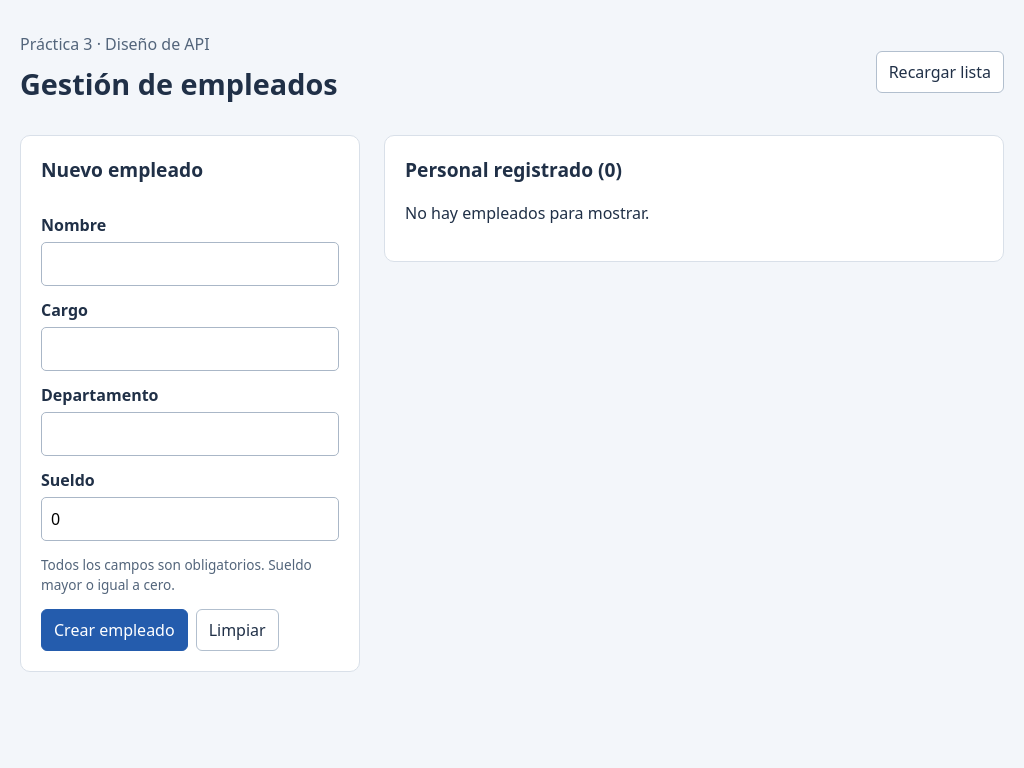
Test: CRUD desde los eventos reales del formulario y la tabla › un error al guardar conserva el borrador y muestra el mensaje para reintentar
Type "Ana Torres" into the field named "nombre" at {"x": 190, "y": 264}, box 41,242 -> 339,286
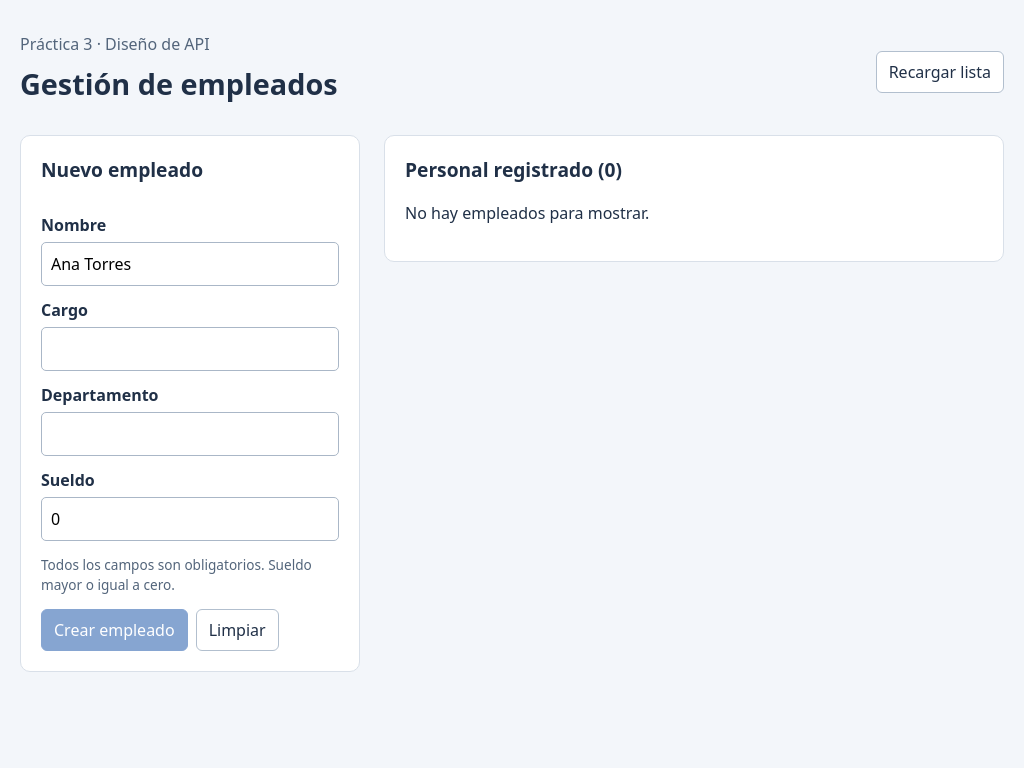
Type "Dev" into the field labelled "Cargo" at {"x": 190, "y": 349}, box 41,327 -> 339,371
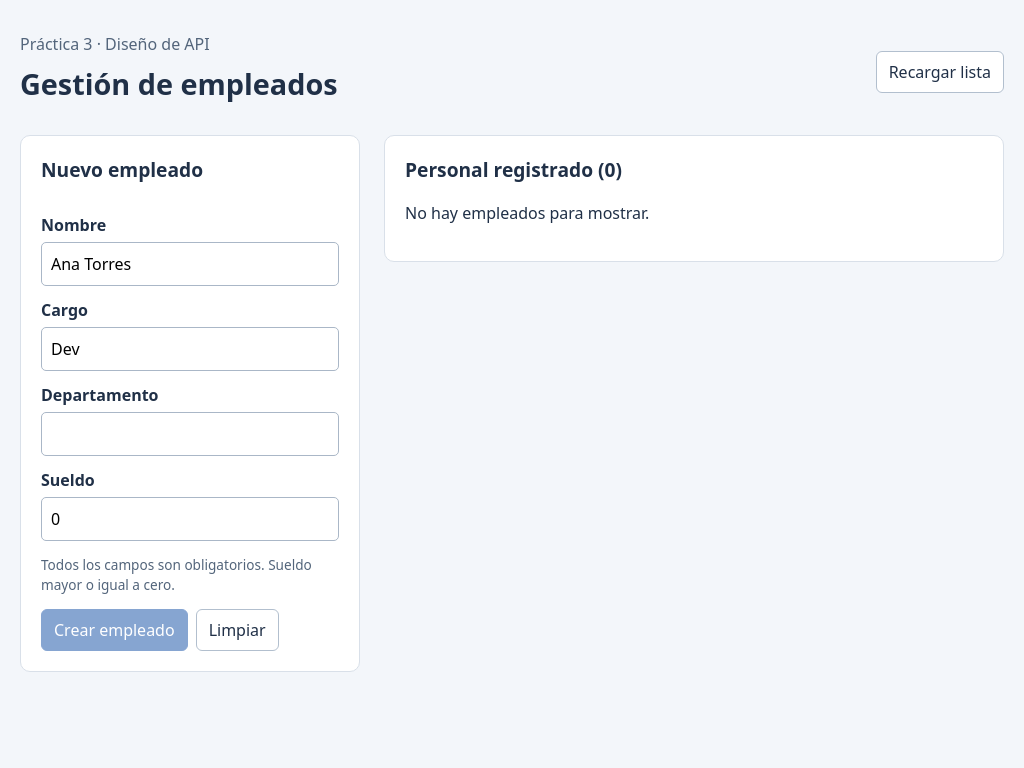
Type "Sistemas" into the field labelled "Departamento" at {"x": 190, "y": 434}, box 41,412 -> 339,456
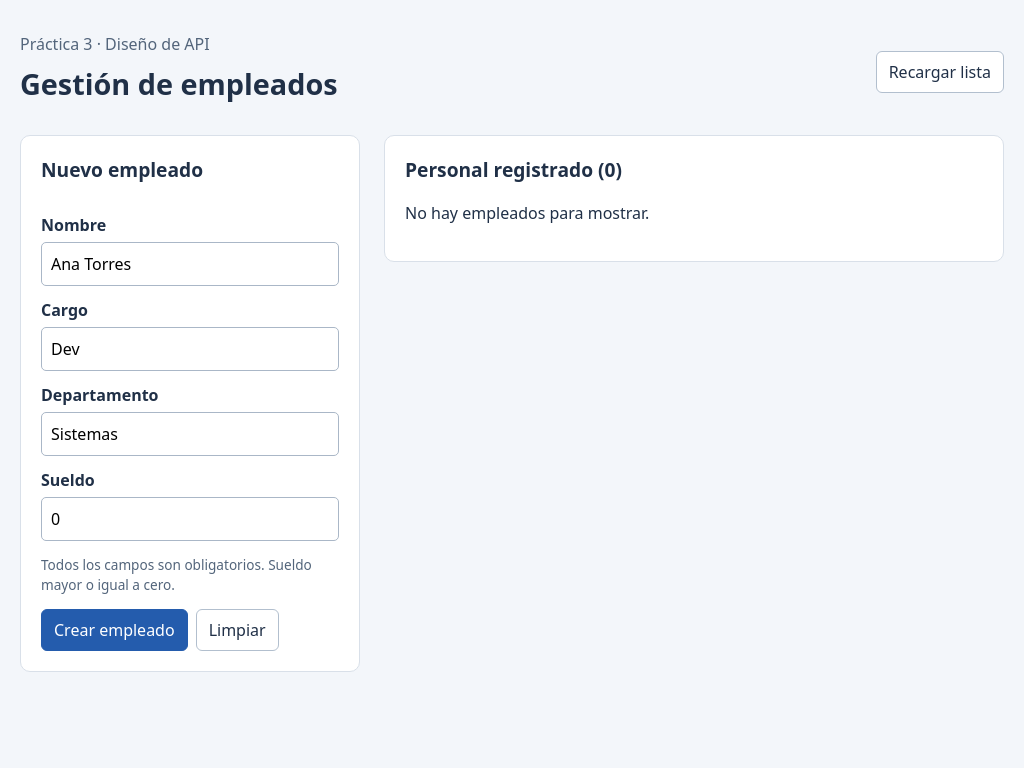
Replace the text in the number field labelled "Sueldo" with "1000" at {"x": 190, "y": 519}, box 41,497 -> 339,541
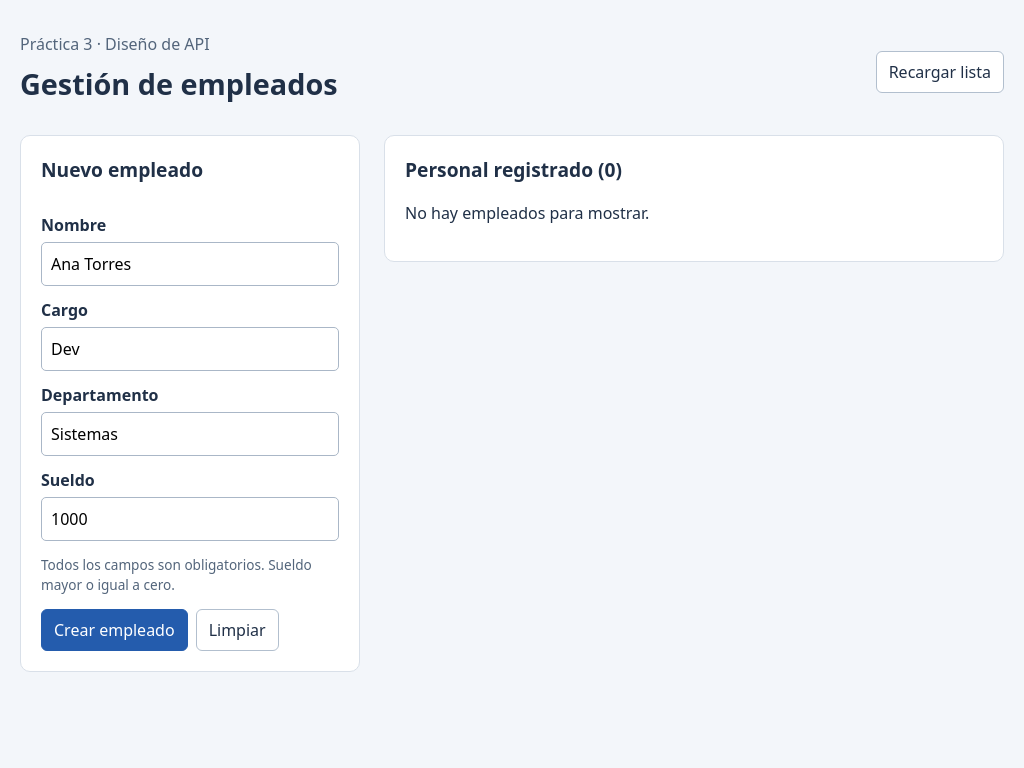
Click the submit button at {"x": 114, "y": 630}, box 41,609 -> 188,651
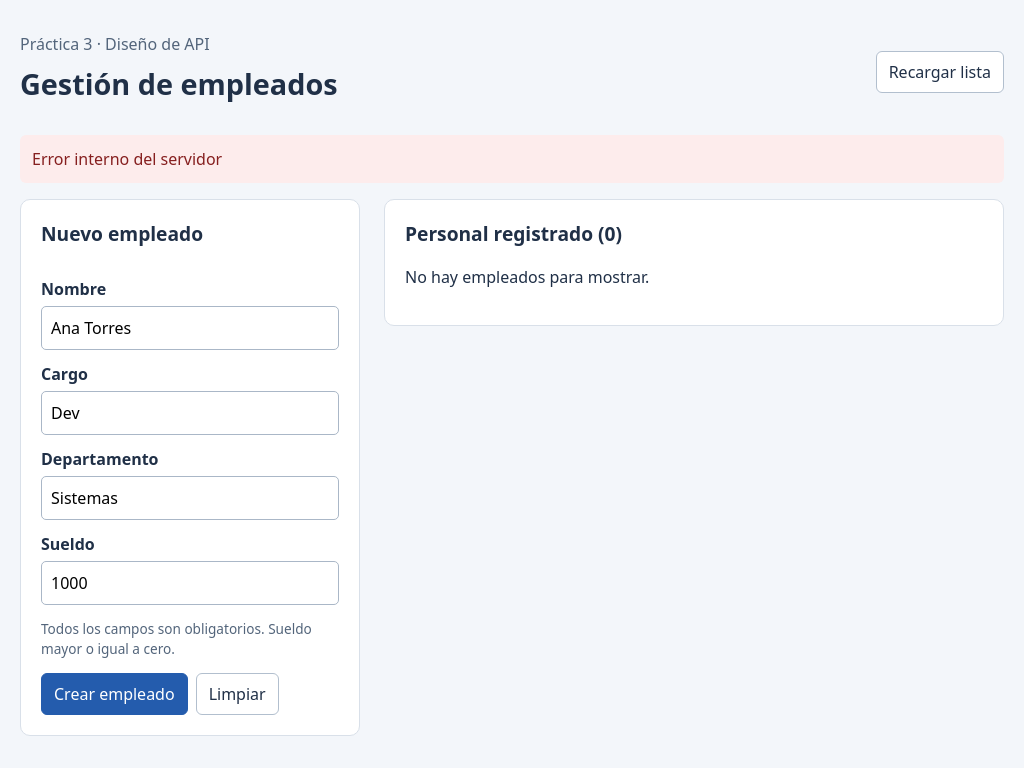
expect the submit button is enabled: met, box 41,673 -> 188,715
expect the message "Error interno del servidor" is shown: met, box 20,135 -> 1004,183
